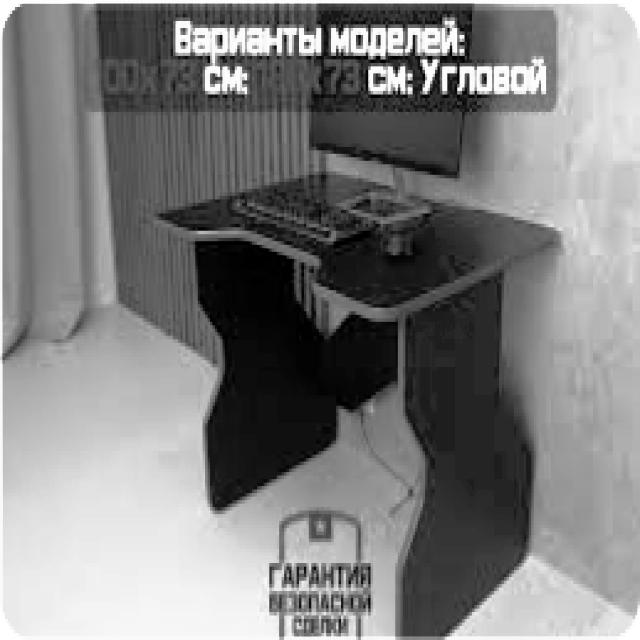table: (148, 168, 558, 636)
